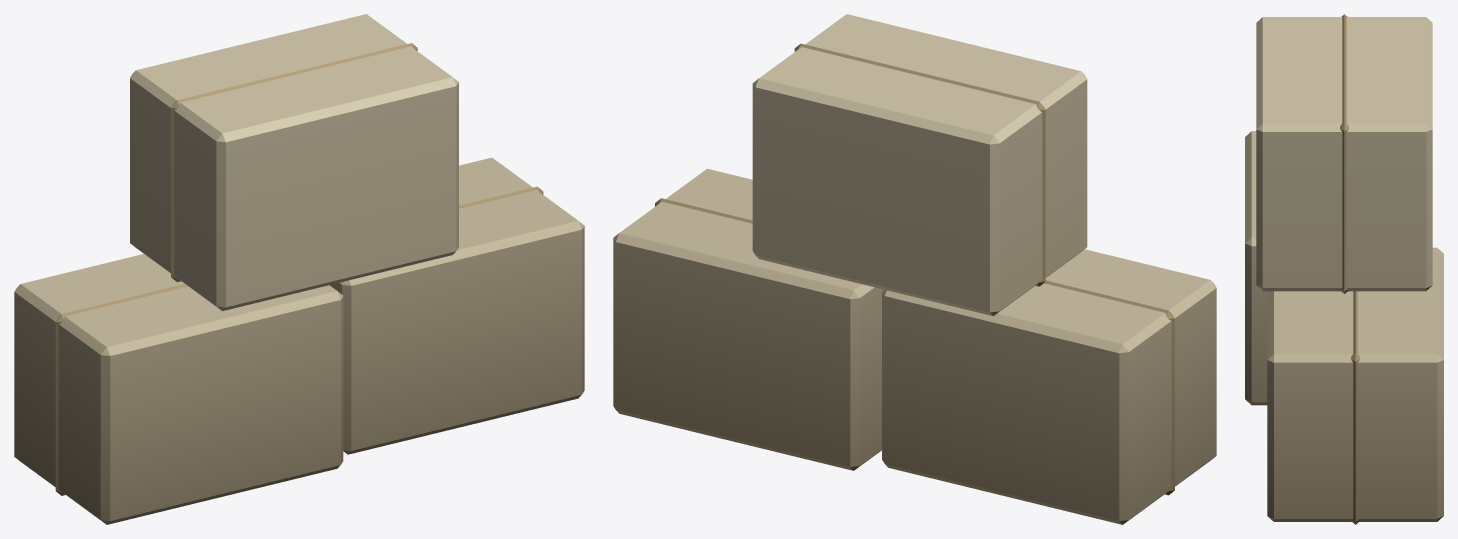
Rendered from iv_hay.glb.
3 renders of one model, left to right at view 1: azimuth 30°, elevation 25°; view 2: azimuth 150°, elevation 25°; view 3: azimuth 270°, elevation 25°, orthographic. The views are drawn at different scales.
Visible parts, largest first — view 1: iv_hay; view 2: iv_hay; view 3: iv_hay.
Boxes of the visible parts, bbox=[...] form: iv_hay: bbox=[14, 14, 584, 524]; iv_hay: bbox=[613, 14, 1216, 524]; iv_hay: bbox=[1245, 14, 1443, 524].
Bounding box in the file's own units: 2.47 × 1.71 × 0.9.
